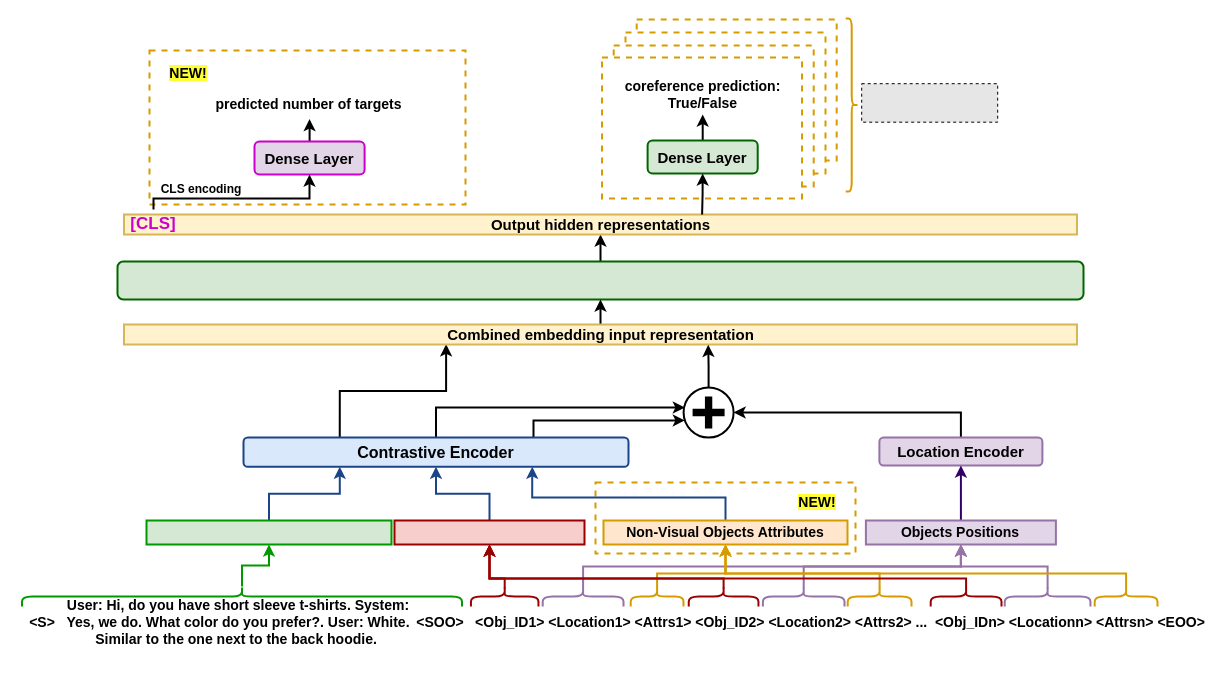
Image size: 1232x676. Some labels were removed from this diagram. The shapes that lost their labels are listed below. From the top down, each one's box as (x1, y1, x2, y2) in pixels, then its label:
(861, 83, 998, 122): Repeated for each candidate object
(116, 260, 1084, 300): BART Encoder
(145, 519, 392, 545): Dialog History
(393, 519, 585, 545): Objects IDs
